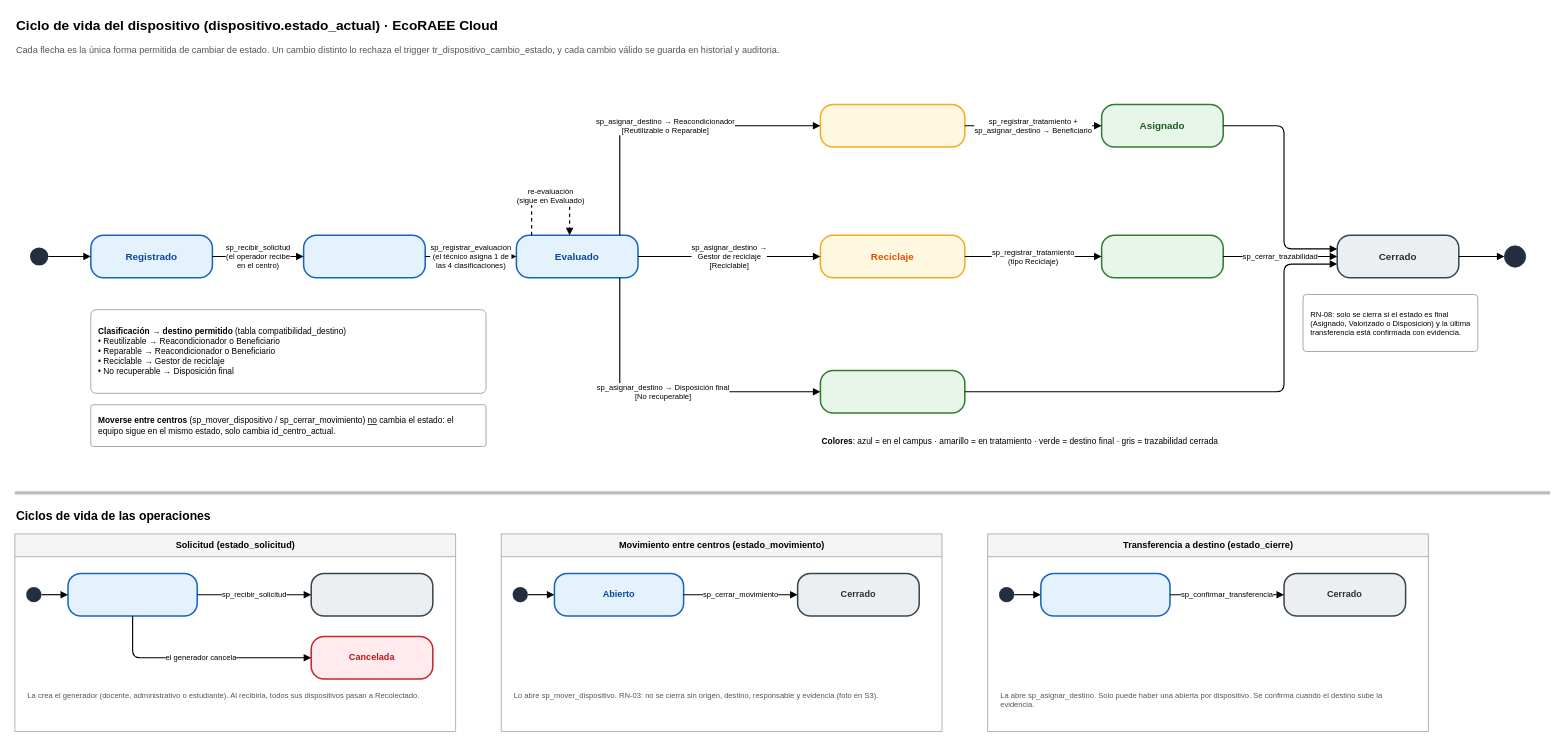
Some shapes in this 1564 by 745 pixel diagram are drawn without their labels. Here are the shapes that lost their labels. From the top down, the centre of each, then its label:
the point at 892,125: Reacondicionamiento
the point at 364,256: Recolectado
the point at 1162,256: Valorizado
the point at 892,391: Disposicion
the point at 132,594: Pendiente
the point at 371,594: Recibida
the point at 1105,594: Pendiente_Evidencia
